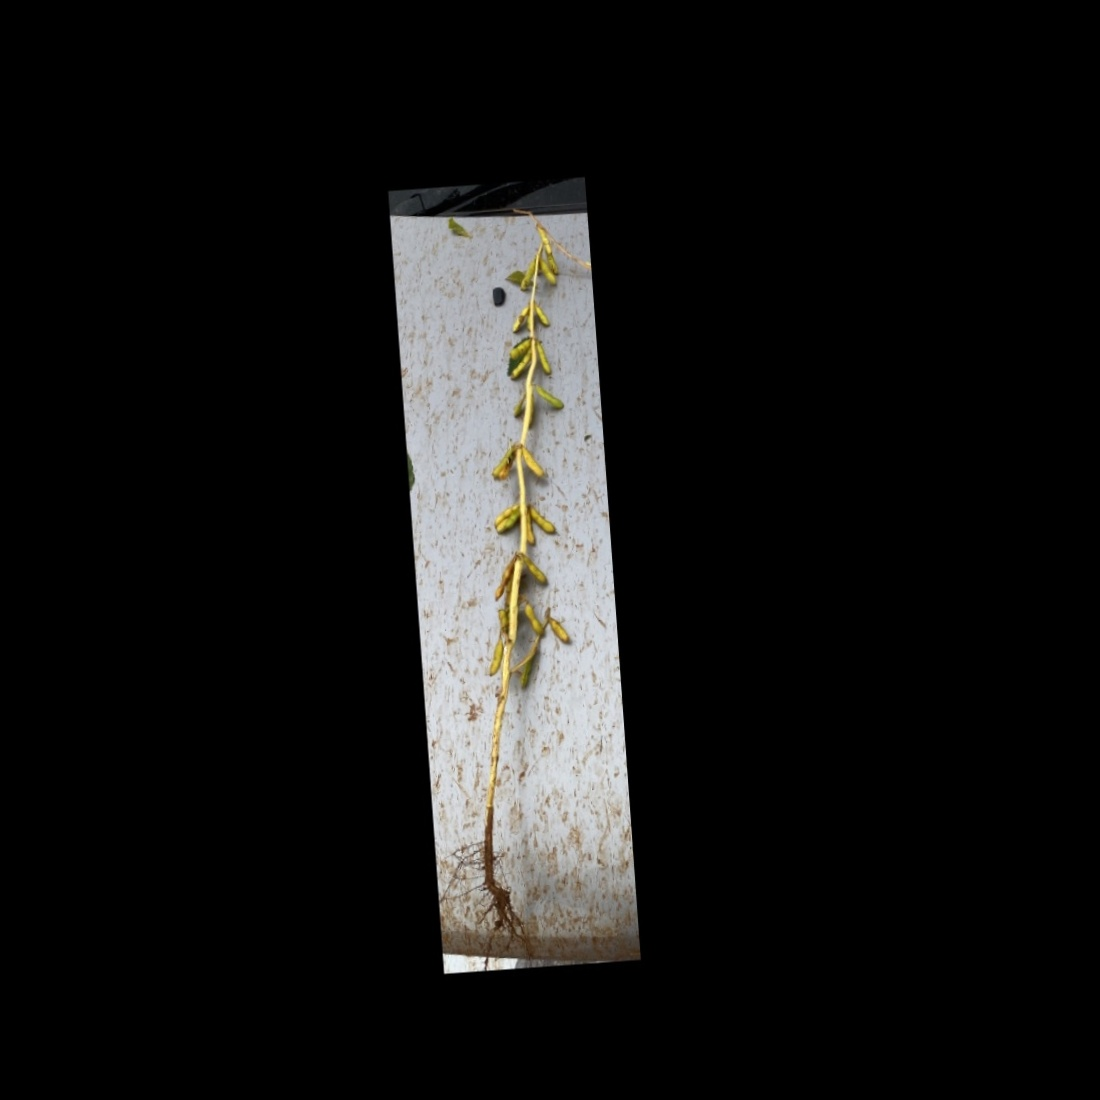pod: (533, 381, 569, 416), (529, 500, 563, 535), (519, 554, 552, 589), (519, 440, 546, 482), (489, 557, 513, 602), (521, 599, 545, 640), (483, 636, 505, 677), (515, 654, 538, 692), (545, 615, 574, 646), (534, 339, 555, 376), (516, 258, 537, 294), (506, 390, 529, 422), (537, 256, 557, 291), (533, 304, 553, 329)
soy: (409, 216, 628, 949)
